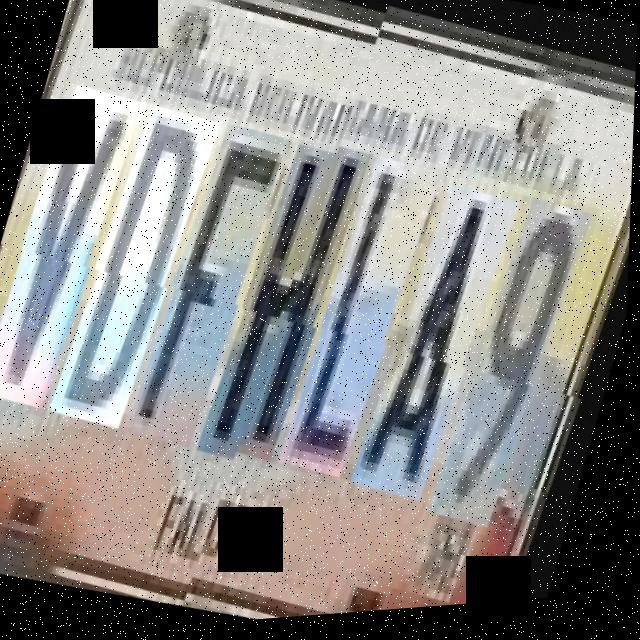9: (436, 199, 602, 542)
A: (359, 185, 528, 517)
D: (59, 98, 230, 437)
F: (134, 119, 302, 455)
H: (205, 137, 381, 477)
L: (285, 158, 452, 495)
V: (0, 79, 154, 417)
